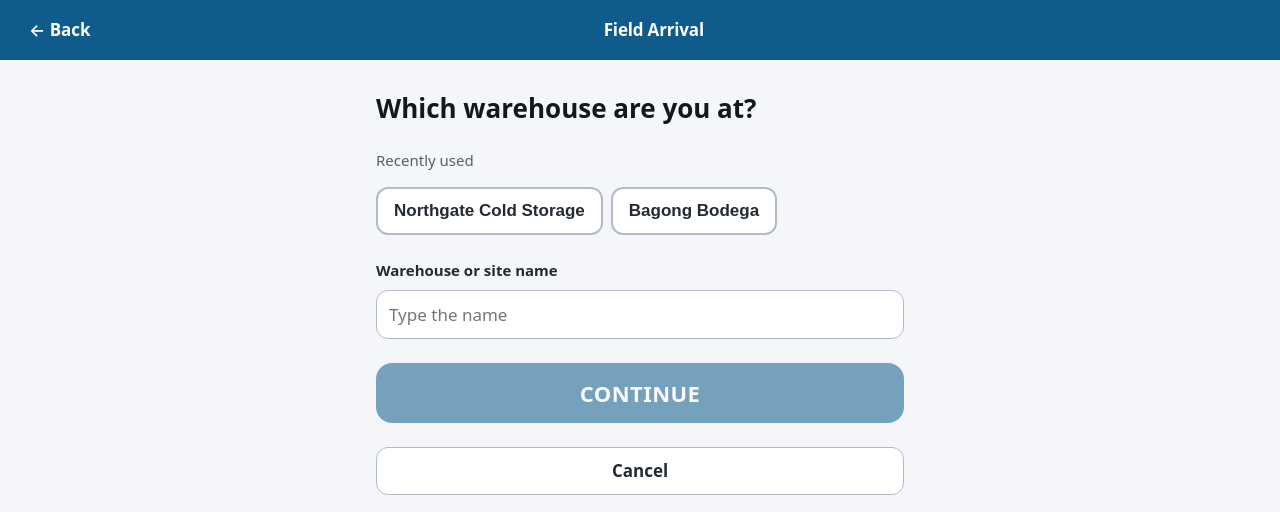
RecordEventPage › asks which warehouse before a field arrival, and offers the recent ones
Expected: the button "CONTINUE" is disabled, [376, 362, 904, 423]
Note: Tapping a previous name is enough - no typing on a phone.
Click the button "Northgate Cold Storage" at (489, 211), box [376, 187, 603, 235]
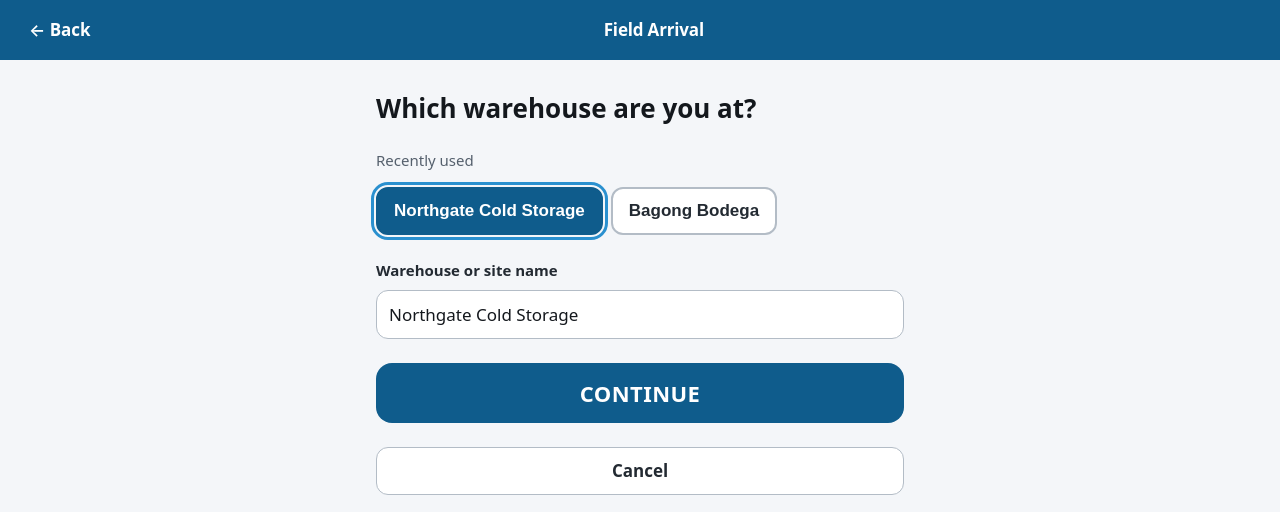
Expected: the button "CONTINUE" is enabled, [376, 362, 904, 423]
